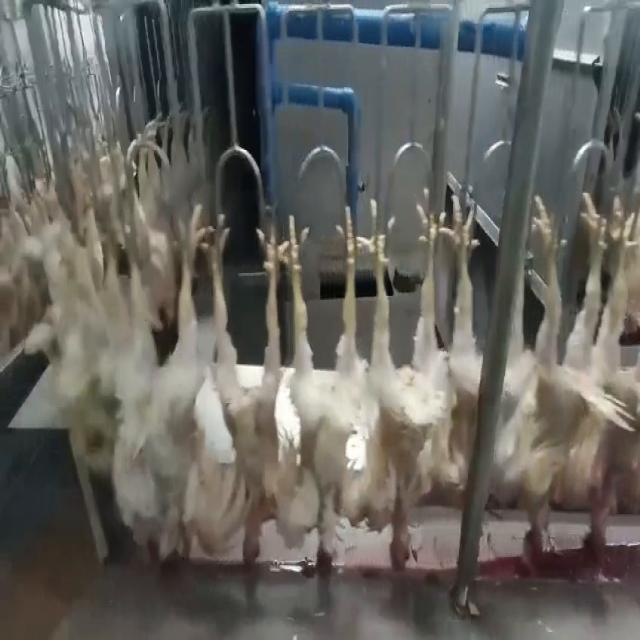chicken: (281, 206, 367, 581), (122, 184, 204, 566), (367, 184, 442, 570), (506, 186, 574, 584), (210, 212, 285, 570), (573, 178, 637, 572), (62, 180, 119, 470), (440, 196, 493, 484)
